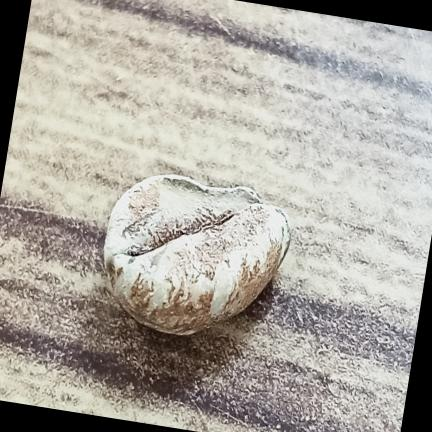cut: (104, 175, 291, 335)
